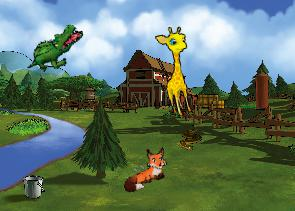crocodile: (25, 14, 85, 83)
fox: (114, 143, 175, 195)
giraffe: (153, 24, 203, 118)
